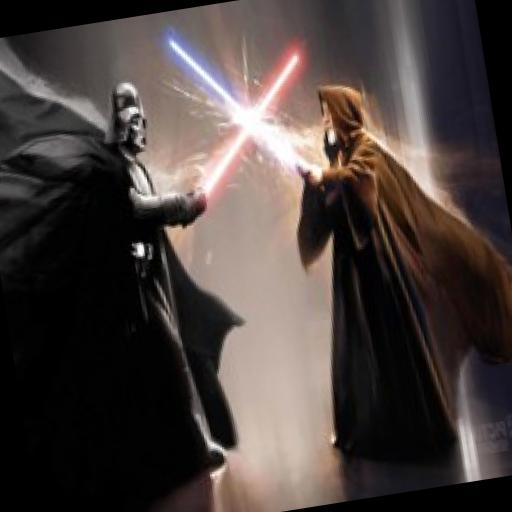human: (0, 67, 237, 497), (281, 59, 512, 454)
lightsaber: (168, 20, 327, 206)
sith saber: (156, 51, 325, 224)
